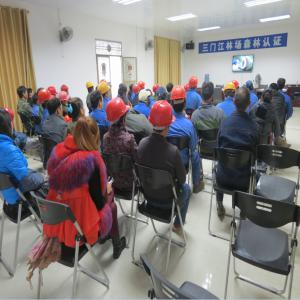none: (75, 117, 102, 154), (234, 86, 251, 115), (68, 97, 87, 122), (201, 80, 216, 105), (47, 98, 65, 117), (91, 91, 105, 112), (262, 89, 274, 107), (16, 85, 29, 101), (277, 78, 288, 93), (119, 84, 129, 99), (27, 87, 36, 101), (166, 82, 175, 93)
red: (149, 99, 173, 140), (107, 98, 127, 131), (171, 86, 187, 116), (38, 90, 52, 110), (59, 92, 70, 108), (190, 75, 199, 93), (132, 84, 141, 98), (61, 85, 70, 97), (153, 83, 160, 95), (140, 81, 147, 92)
yellow: (223, 81, 238, 102), (98, 81, 111, 100), (86, 81, 95, 94)
